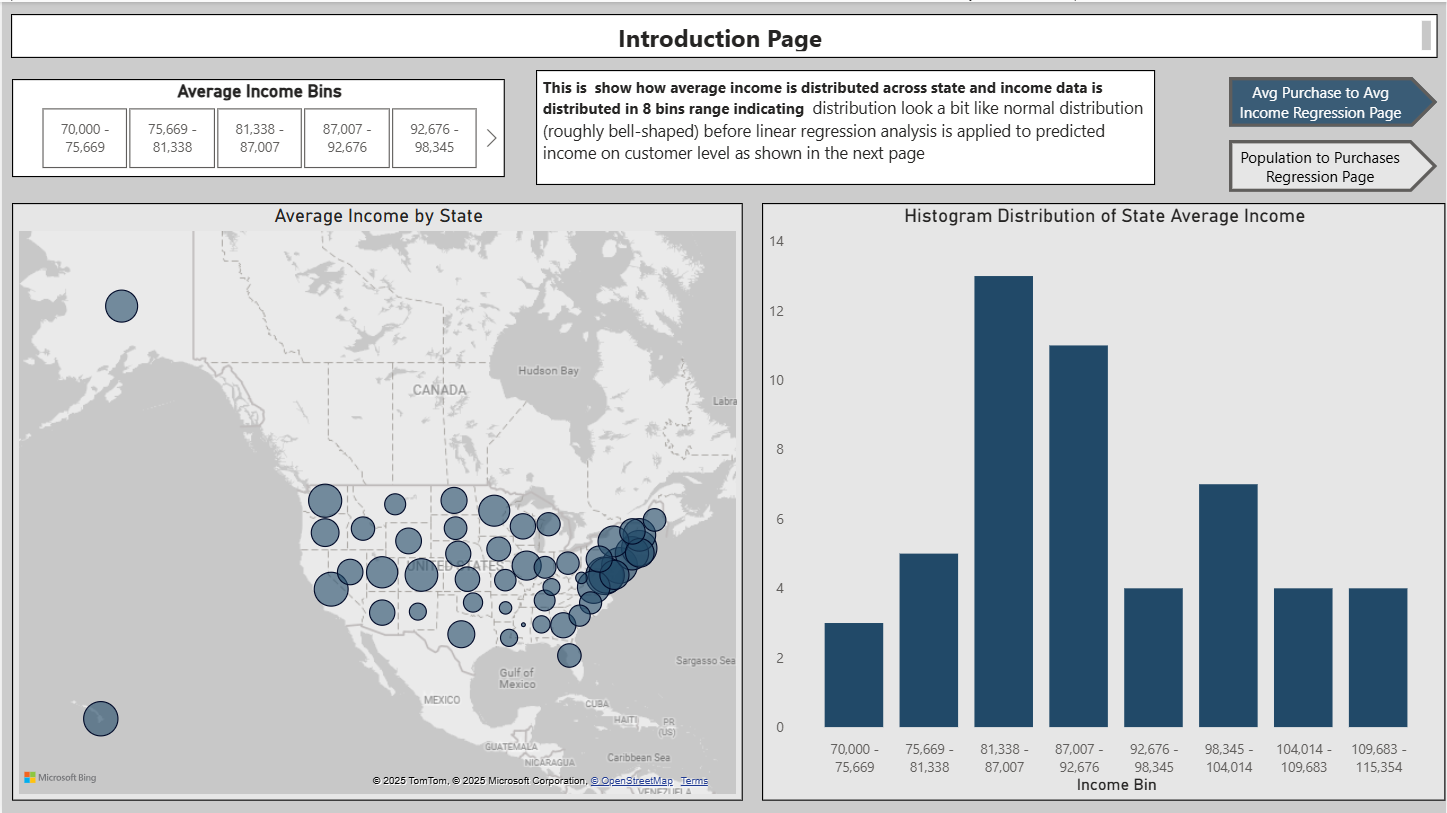

Layout of this report page (visuals, bound fields, positions):
{"tool":"powerbi","page":{"name":"Front Page","canvas":[1280,720],"ordinal":0},"visuals":[{"type":"map","title":"Average Income by State","fields":{"Size":["Sum(Regression_Tbl1.Average Income)"],"Category":["Regression_Tbl1.State"]},"box":[8.5,178.1,648.5,529.7],"z":0},{"type":"columnChart","title":"Histogram Distribution of State Average Income ","fields":{"Category":["Regression_Tbl.IncomeBin8"],"Y":["CountNonNull(Regression_Tbl.IncomeBin8Sort)"]},"box":[673.9,178.1,606.1,529.7],"z":1000},{"type":"textbox","box":[7.5,10.4,1264.9,38.6],"z":2000},{"type":"textbox","box":[473.2,60.3,548.6,101.8],"z":3000},{"type":"actionButton","box":[1087.7,122.5,184.7,46.2],"z":7000},{"type":"actionButton","box":[1087.7,66.9,184.7,44.3],"z":8000},{"type":"slicer","title":"Average Income Bins","fields":{"Values":["Regression_Tbl1.IncomeBin8"]},"box":[8.5,67.9,437.3,86.7],"z":10000}]}

Visuals, with their boxes in screenshot pixels (x1, y1, x2, y2), scaled from the page's 1280x720 canvas onto the 1447x813 screenshot:
"Average Income by State" map: crop(10, 201, 743, 799)
"Histogram Distribution of State Average Income " columnChart: crop(762, 201, 1446, 799)
textbox: crop(8, 12, 1438, 55)
textbox: crop(535, 68, 1155, 183)
actionButton: crop(1230, 138, 1438, 190)
actionButton: crop(1230, 76, 1438, 126)
"Average Income Bins" slicer: crop(10, 77, 504, 175)
